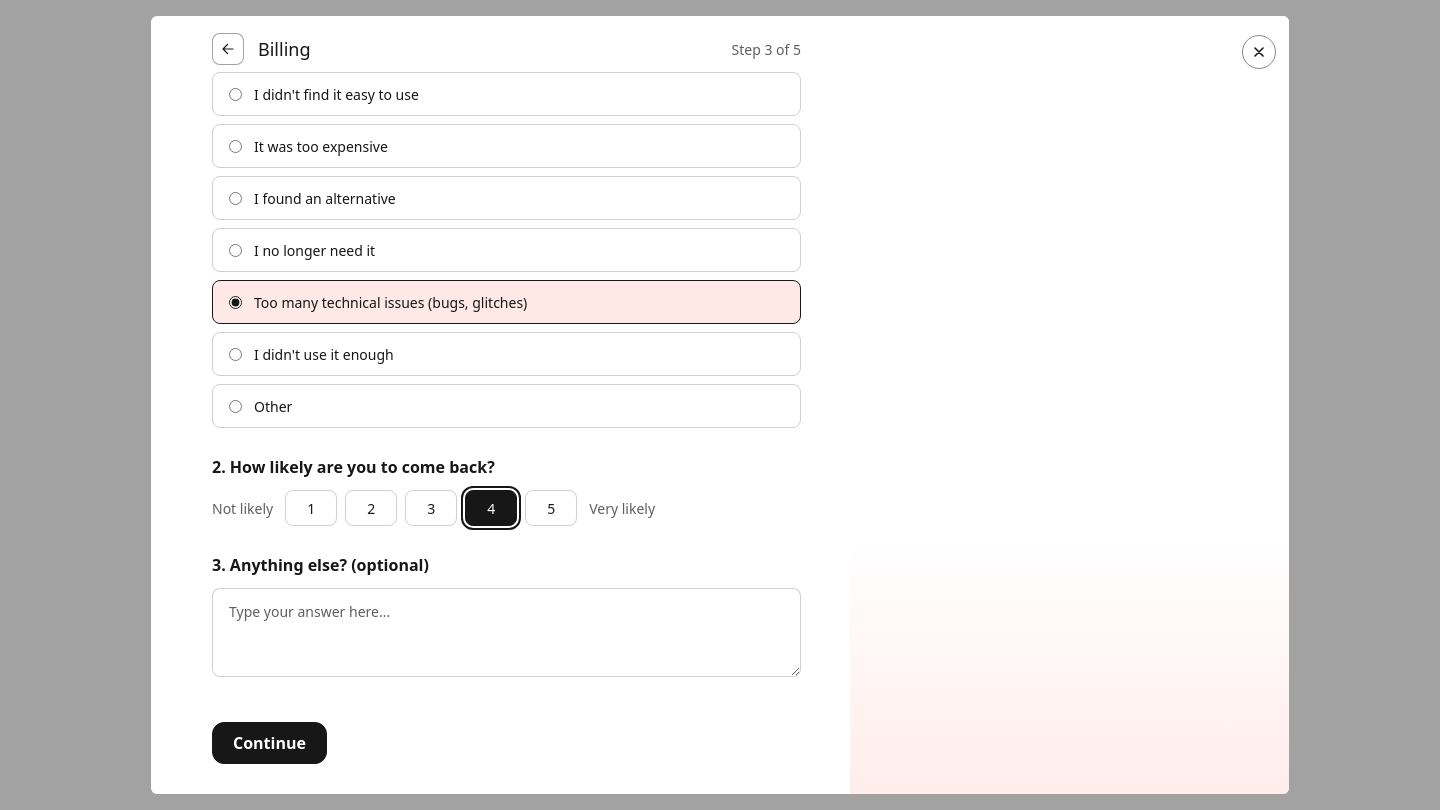
Test: CancellationModal › Flow A: full cancellation sends the survey and tracks every step and CTA
Earlier steps of the test are not shown.
Later steps or results of the test are not shown.
(page scrolled)
What coordinates should you click on to do the following:
click the button "Continue"
I would click on:
 (269, 743)
Its box is [212,722,327,764].
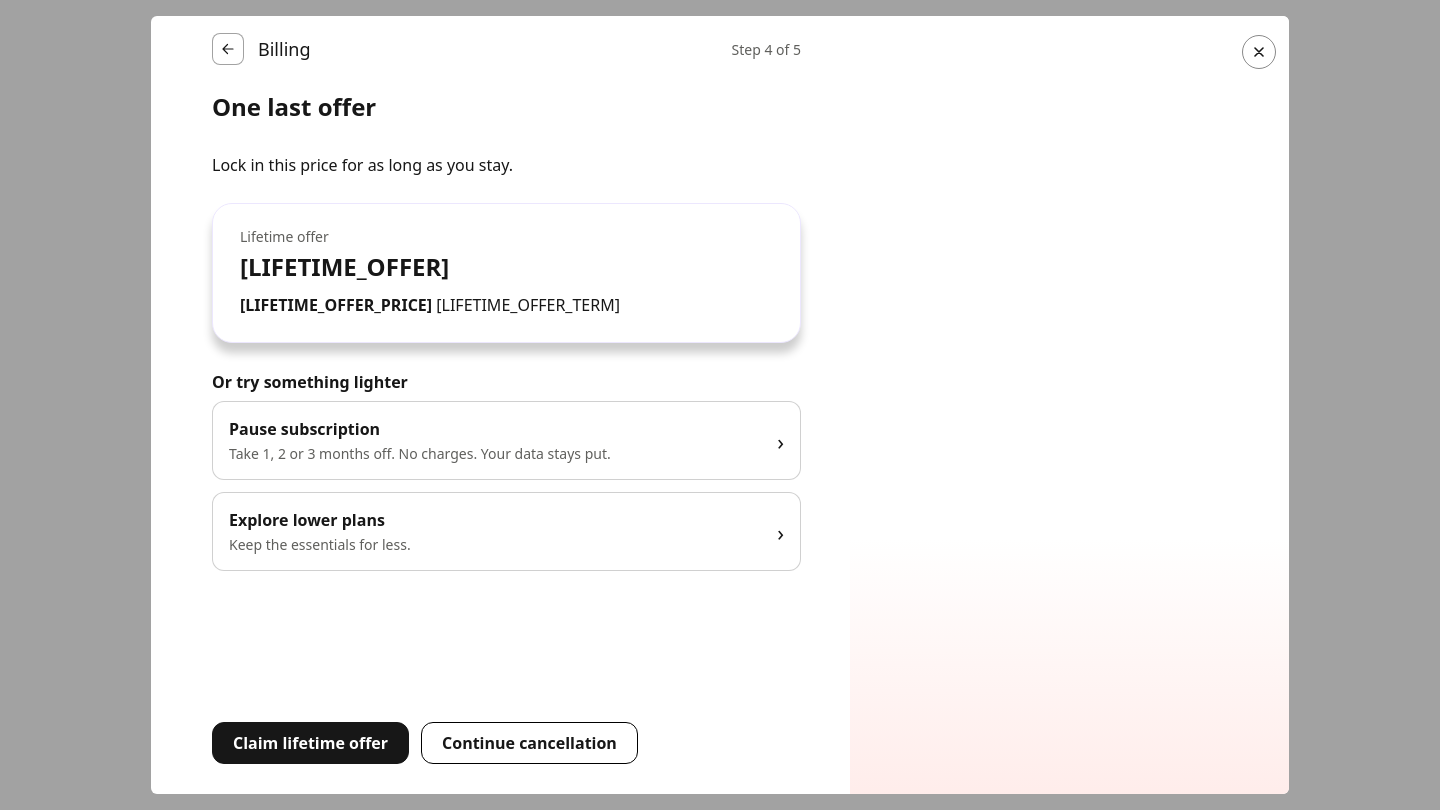
Expected: the text "Step 4 of 5" is shown, [732,40,801,58]
Expected: the button "Pause subscription" is shown, [212,401,801,480]
What coordinates should you click on to do the following:
click the button "Continue cancellation"
I would click on:
 (530, 743)
Its box is [421,722,638,764].
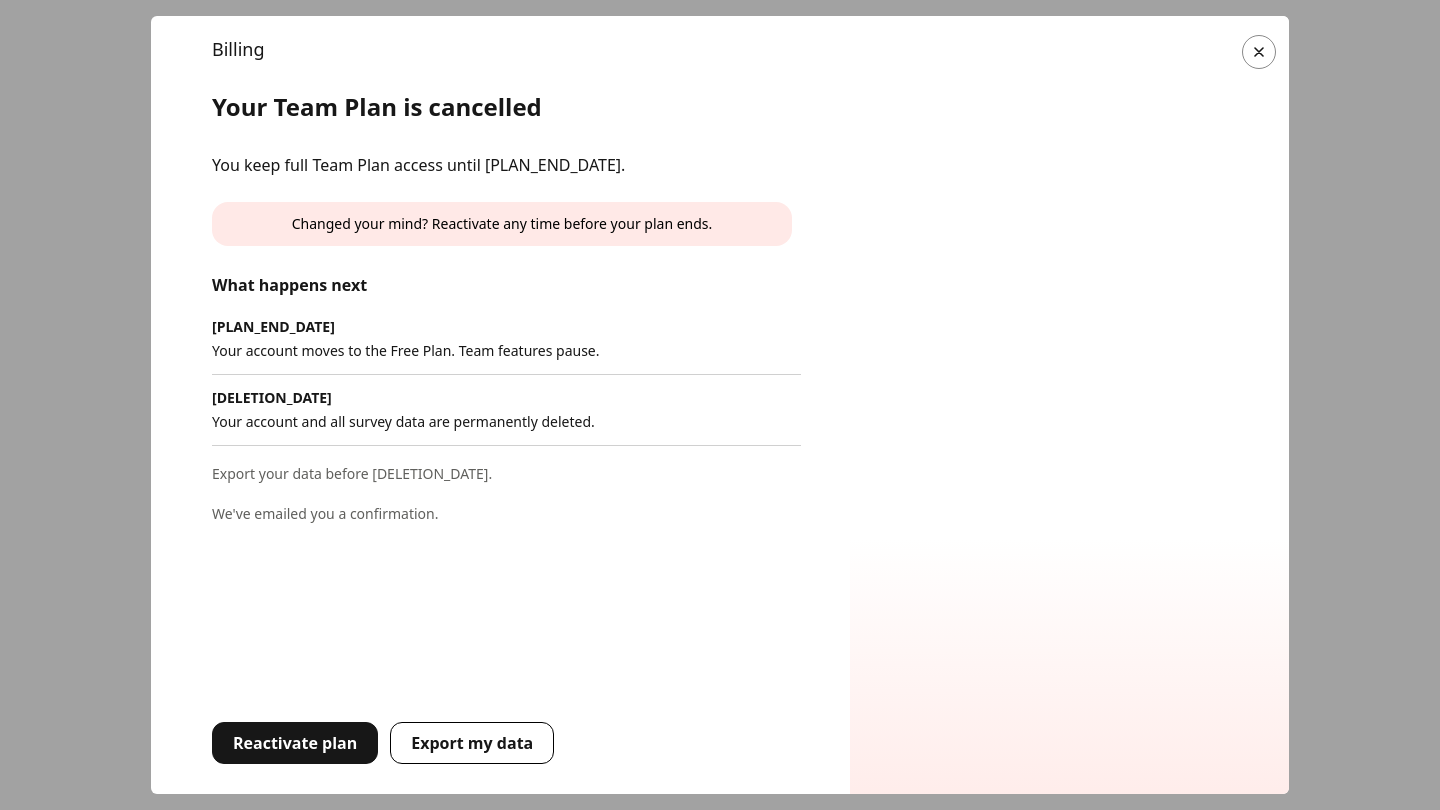
Expected: the heading "Your Team Plan is cancelled" is shown, [212,90,542,123]
Expected: the button "Reactivate plan" is shown, [212,722,378,764]
Expected: the button "Back" is gone
